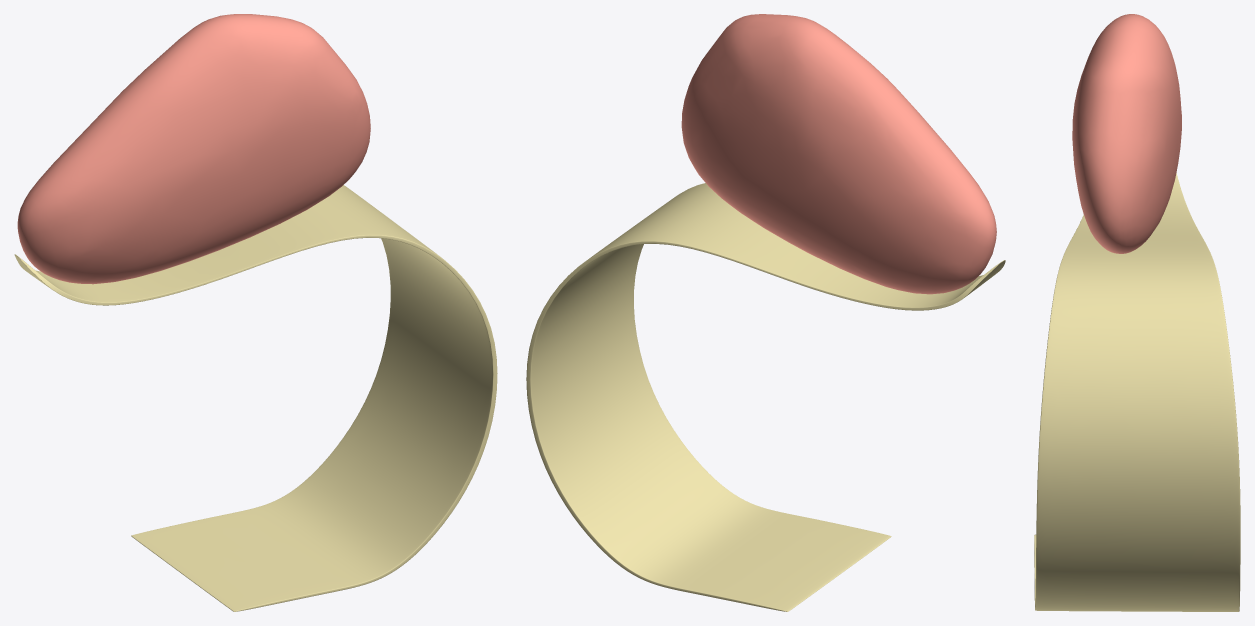
Rendered from sculpture4.glb.
3 renders of one model, left to right at view 1: azimuth 30°, elevation 25°; view 2: azimuth 150°, elevation 25°; view 3: azimuth 270°, elevation 25°, orthographic. The views are drawn at different scales.
Visible parts, largest first — view 1: metalhome, piedrarosa; view 2: metalhome, piedrarosa; view 3: metalhome, piedrarosa.
Boxes of the visible parts, left/top/right/bottom form: metalhome: left=14, top=185, right=497, bottom=611; piedrarosa: left=17, top=14, right=370, bottom=284; metalhome: left=526, top=183, right=1005, bottom=611; piedrarosa: left=681, top=14, right=996, bottom=294; metalhome: left=1034, top=173, right=1240, bottom=611; piedrarosa: left=1072, top=14, right=1181, bottom=253.
Bounding box in the file's own units: 0.3016 × 0.3706 × 0.1281.
